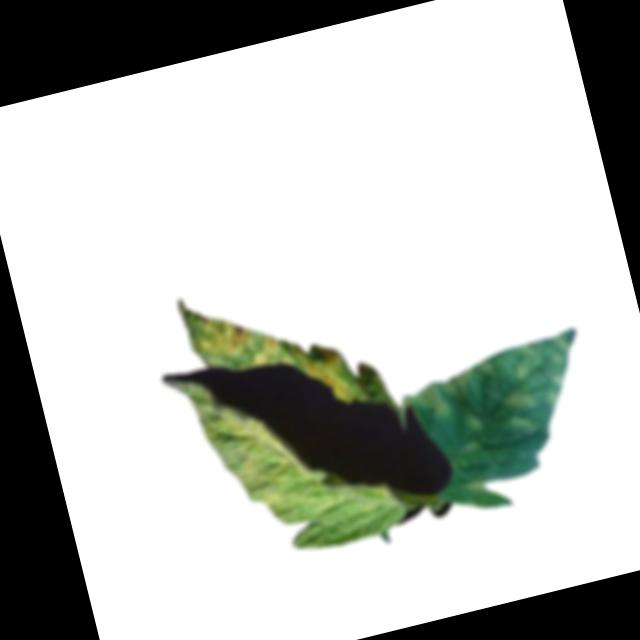Leaf_Mold: (412, 329, 597, 460), (287, 328, 359, 411), (188, 299, 257, 366), (250, 329, 282, 366)
